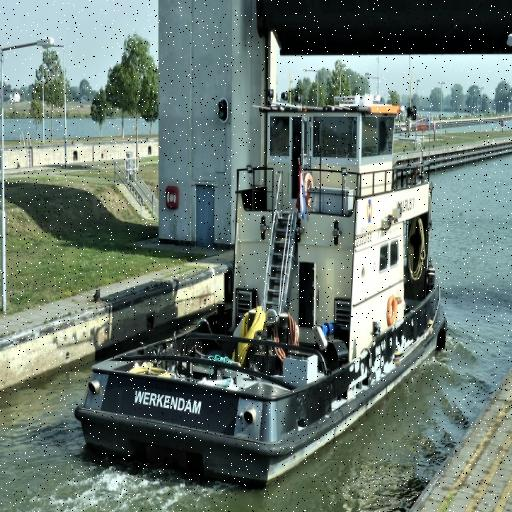tugboat: (74, 90, 451, 495)
